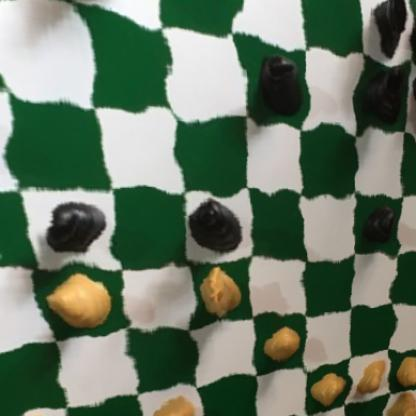black-bishop: (357, 50, 406, 128)
black-king: (181, 188, 244, 256)
black-knight: (369, 0, 416, 57)
black-pawn: (29, 198, 118, 264), (244, 41, 301, 129), (360, 207, 397, 250), (0, 86, 6, 176), (411, 59, 416, 120)
black-rook: (410, 0, 416, 73)
white-knight: (186, 258, 249, 332)
white-pawn: (41, 269, 121, 334), (258, 320, 293, 371), (351, 350, 387, 399), (145, 386, 201, 416), (311, 365, 346, 411), (390, 346, 416, 388), (0, 407, 66, 416)
white-rook: (48, 0, 153, 9), (387, 384, 416, 416)
